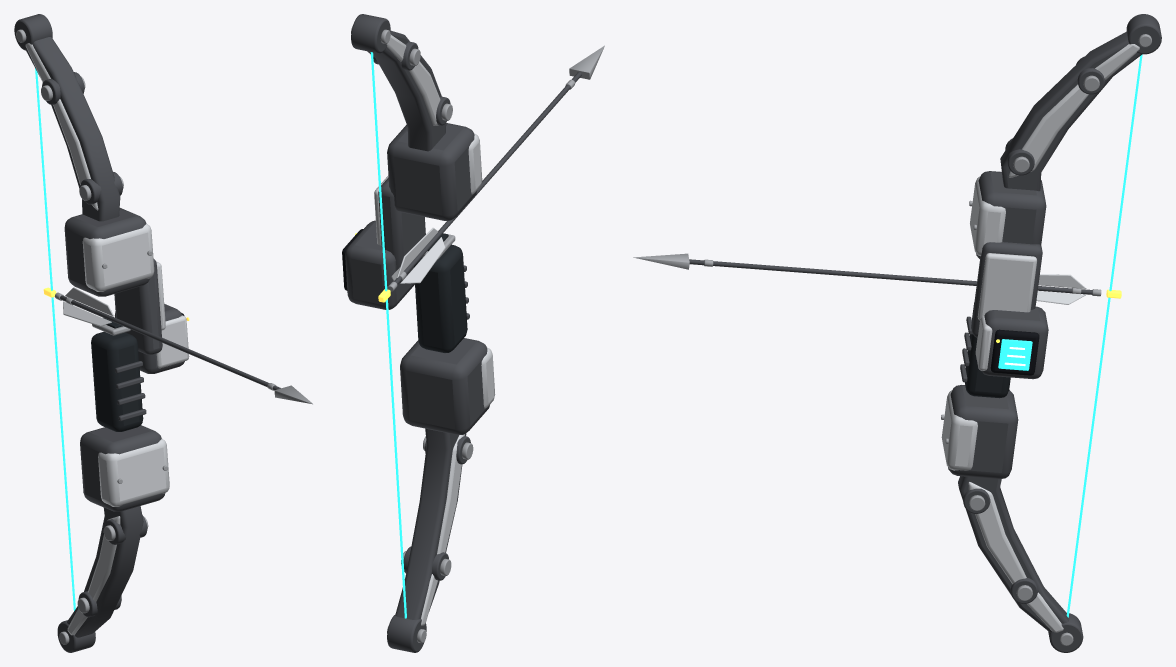
Rendered from CubeEscape_Bow_Standard_FPS.glb.
3 views of the same model, side by side, from view 1: azimuth 30°, elevation 25°; view 2: azimuth 150°, elevation 25°; view 3: azimuth 270°, elevation 25° (orthographic). The views are drawn at different scales.
Parts seen in each view (by area): view 1: SM_BW_UpperLimbSpine, SM_BW_Grip, SM_BW_RiserArmor1, SM_BW_RiserArmor-1, SM_BW_LowerLimbSpine, SM_BW_RiserCollar-1, SM_BW_RiserCollar1, SM_BW_RiserWindowSide, SM_BW_Arrow_Shaft, SM_BW_ControlShell, SM_BW_UpperLimbArmor, SM_BW_LowerLimbArmor (+7 smaller); view 2: SM_BW_RiserCollar-1, SM_BW_RiserCollar1, SM_BW_LowerLimbSpine, SM_BW_Grip, SM_BW_ControlModule, SM_BW_UpperLimbSpine, SM_BW_RiserWindowSide, SM_BW_Arrow_Shaft, SM_BW_UpperTipCam, SM_BW_LowerLimbArmor, SM_BW_LowerTipCam, SM_BW_LowerBowstring (+8 smaller); view 3: SM_BW_RiserCollar-1, SM_BW_UpperLimbSpine, SM_BW_RiserWindowArmor, SM_BW_RiserCollar1, SM_BW_LowerLimbSpine, SM_BW_ControlModule, SM_BW_RiserArmor-1, SM_BW_LowerLimbArmor, SM_BW_Arrow_Shaft, SM_BW_UpperLimbArmor, SM_BW_RiserArmor1, SM_BW_RiserWindowSide (+6 smaller).
Boxes of the visible parts, x1=… form: SM_BW_UpperLimbSpine: x1=26, y1=37, x2=120, y2=221; SM_BW_Grip: x1=91, y1=332, x2=143, y2=431; SM_BW_RiserArmor1: x1=82, y1=223, x2=154, y2=291; SM_BW_RiserArmor-1: x1=98, y1=438, x2=169, y2=506; SM_BW_LowerLimbSpine: x1=67, y1=506, x2=143, y2=637; SM_BW_RiserCollar-1: x1=80, y1=425, x2=165, y2=511; SM_BW_RiserCollar1: x1=64, y1=208, x2=149, y2=296; SM_BW_RiserWindowSide: x1=114, y1=259, x2=162, y2=354; SM_BW_Arrow_Shaft: x1=60, y1=295, x2=280, y2=390; SM_BW_ControlShell: x1=156, y1=315, x2=189, y2=368; SM_BW_UpperLimbArmor: x1=53, y1=99, x2=98, y2=210; SM_BW_LowerLimbArmor: x1=88, y1=516, x2=120, y2=601; SM_BW_RiserCollar-1: x1=400, y1=338, x2=489, y2=435; SM_BW_RiserCollar1: x1=387, y1=123, x2=477, y2=220; SM_BW_LowerLimbSpine: x1=395, y1=428, x2=466, y2=619; SM_BW_Grip: x1=414, y1=244, x2=467, y2=352; SM_BW_ControlModule: x1=345, y1=220, x2=414, y2=309; SM_BW_UpperLimbSpine: x1=367, y1=30, x2=446, y2=151; SM_BW_RiserWindowSide: x1=378, y1=177, x2=425, y2=282; SM_BW_Arrow_Shaft: x1=394, y1=72, x2=581, y2=284; SM_BW_UpperTipCam: x1=351, y1=14, x2=390, y2=53; SM_BW_LowerLimbArmor: x1=437, y1=434, x2=464, y2=554; SM_BW_LowerTipCam: x1=387, y1=615, x2=426, y2=652; SM_BW_LowerBowstring: x1=385, y1=299, x2=406, y2=618; SM_BW_RiserCollar-1: x1=948, y1=385, x2=1018, y2=479; SM_BW_UpperLimbSpine: x1=1000, y1=31, x2=1141, y2=191; SM_BW_RiserWindowArmor: x1=977, y1=253, x2=1036, y2=320; SM_BW_RiserCollar1: x1=976, y1=171, x2=1046, y2=258; SM_BW_LowerLimbSpine: x1=958, y1=476, x2=1068, y2=632; SM_BW_ControlModule: x1=981, y1=306, x2=1048, y2=379; SM_BW_RiserArmor-1: x1=941, y1=390, x2=977, y2=470; SM_BW_LowerLimbArmor: x1=968, y1=482, x2=1026, y2=584; SM_BW_Arrow_Shaft: x1=689, y1=259, x2=1092, y2=294; SM_BW_UpperLimbArmor: x1=1008, y1=84, x2=1088, y2=177; SM_BW_RiserArmor1: x1=970, y1=176, x2=1005, y2=256; SM_BW_RiserWindowSide: x1=971, y1=242, x2=1042, y2=337.
Size of the model in its own units: 0.2821 by 1.53 by 1.17.
